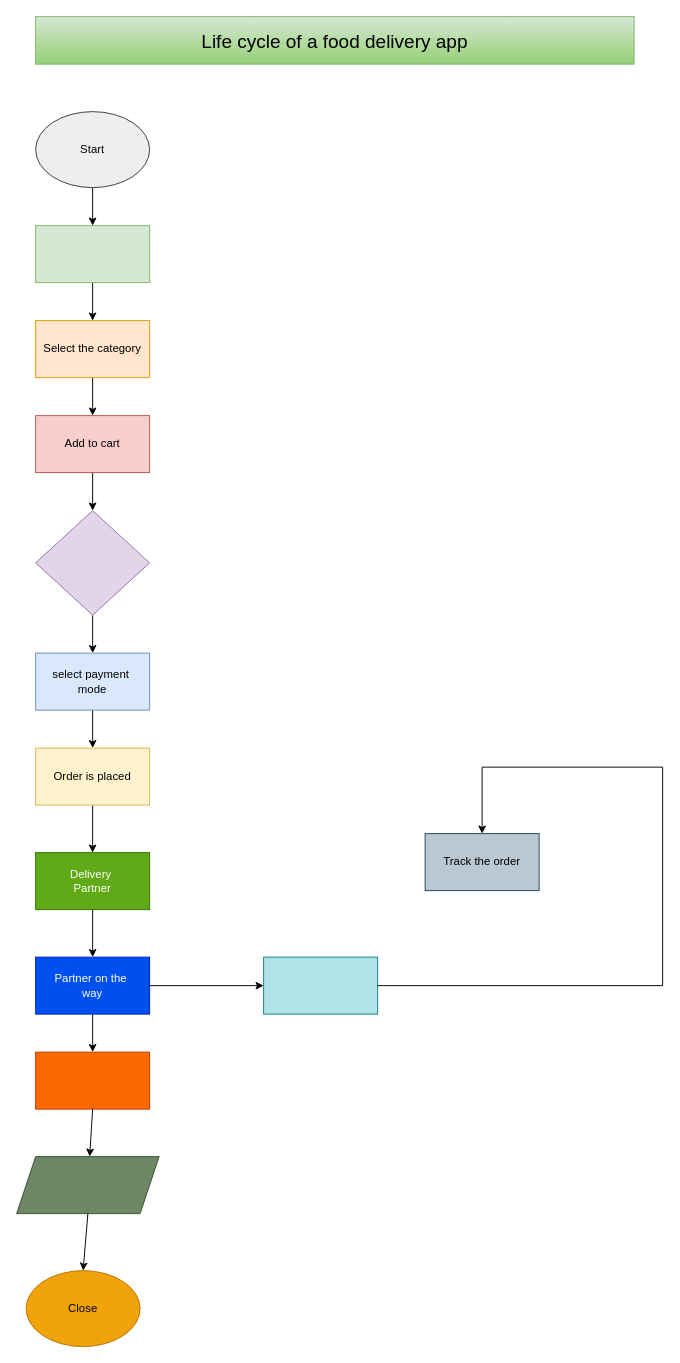
Image size: 680x1363. Some labels were removed from this diagram. Each missing label, with the centre of its shape:
"Feedback/ rating" belongs at pixel 87 1185.
"Location" belongs at pixel 320 985.
"Open the app" belongs at pixel 92 254.
"Order Received" belongs at pixel 92 1080.
"Place Order" belongs at pixel 92 562.
